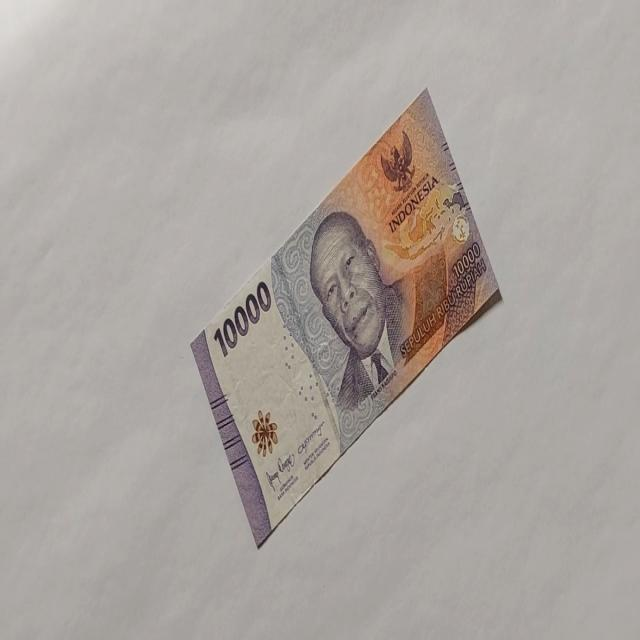sepuluh ribu rupiah: (189, 86, 503, 550), (212, 278, 272, 359)
